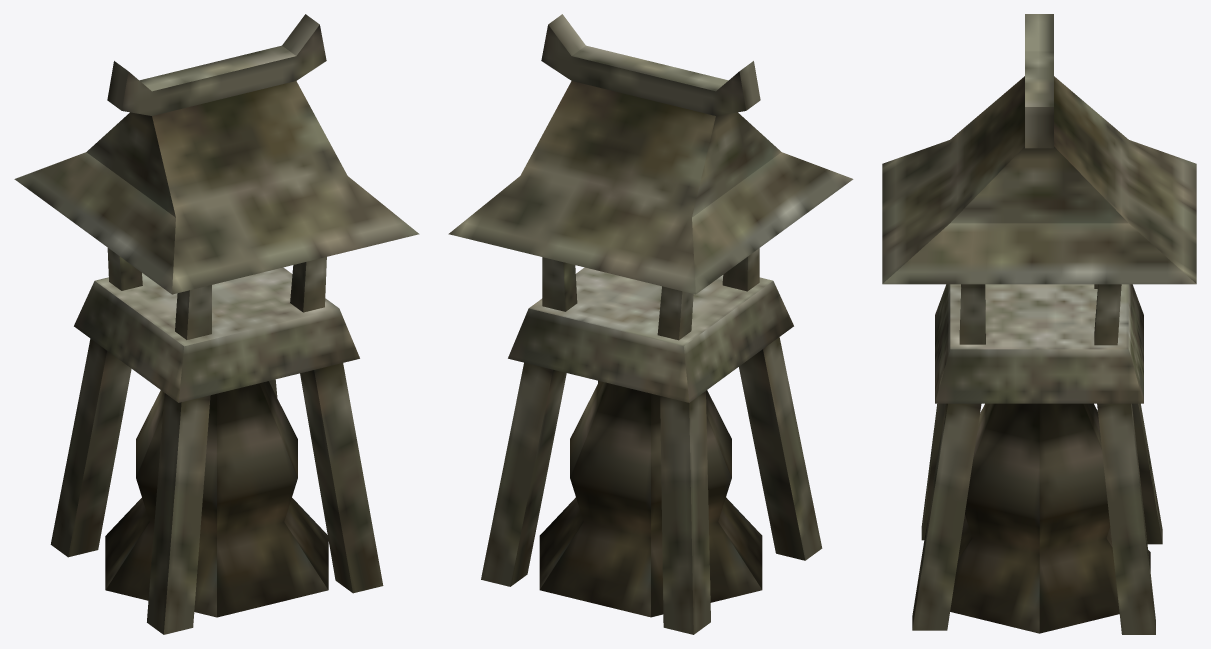
Rendered from general_obj_brazier.fbx.
The picture shows the model from 3 angles, left to right: view 1: azimuth 30°, elevation 25°; view 2: azimuth 150°, elevation 25°; view 3: azimuth 270°, elevation 25°; orthographic projection.
Parts seen in each view (by area): view 1: Object14; view 2: Object14; view 3: Object14.
Boxes of the visible parts, x1,y1,x2,y2 form: Object14: (14,14,419,634); Object14: (448,14,853,634); Object14: (882,14,1196,634).
Bounding box in the file's own units: 0.6386 × 1.29 × 0.7047.
